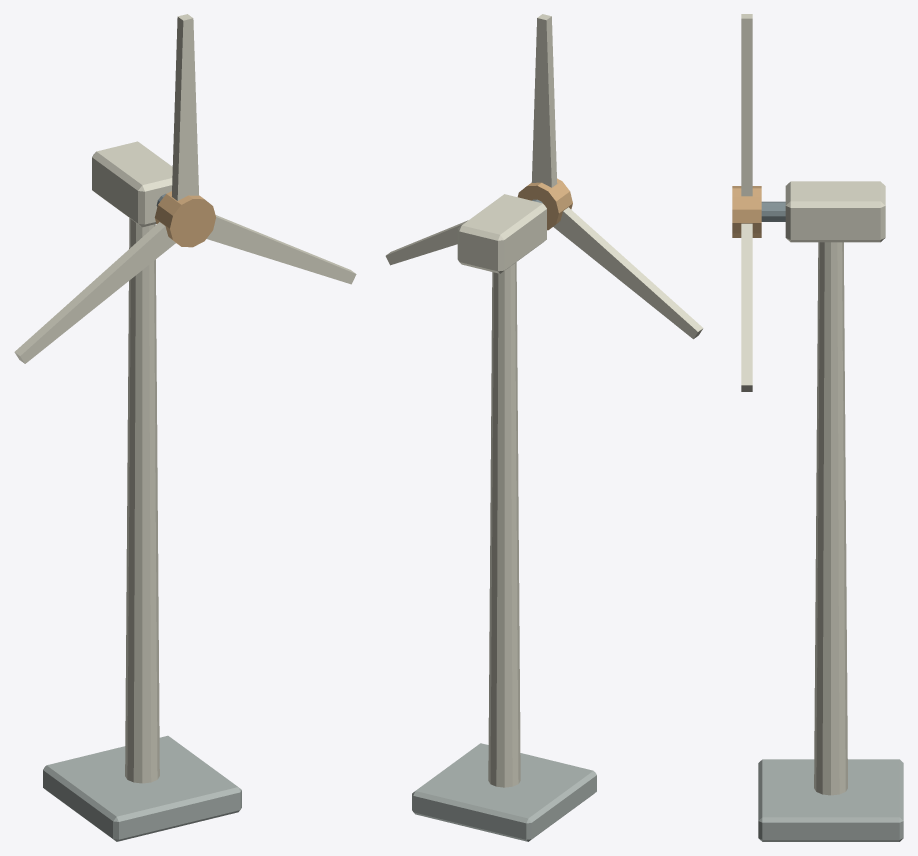
3 views of the same model, side by side, from view 1: azimuth 30°, elevation 25°; view 2: azimuth 150°, elevation 25°; view 3: azimuth 270°, elevation 25° (orthographic). The views are drawn at different scales.
Parts seen in each view (by area): view 1: Stator_Runtime, Rotor_Runtime; view 2: Stator_Runtime, Rotor_Runtime; view 3: Stator_Runtime, Rotor_Runtime.
Boxes of the visible parts, x1=… form: Stator_Runtime: x1=43, y1=141, x2=241, y2=841; Rotor_Runtime: x1=14, y1=14, x2=356, y2=363; Stator_Runtime: x1=412, y1=194, x2=596, y2=841; Rotor_Runtime: x1=385, y1=14, x2=703, y2=339; Stator_Runtime: x1=758, y1=181, x2=903, y2=841; Rotor_Runtime: x1=732, y1=14, x2=761, y2=391.
Bounding box in the file's own units: 1.67 × 3.87 × 0.755.
